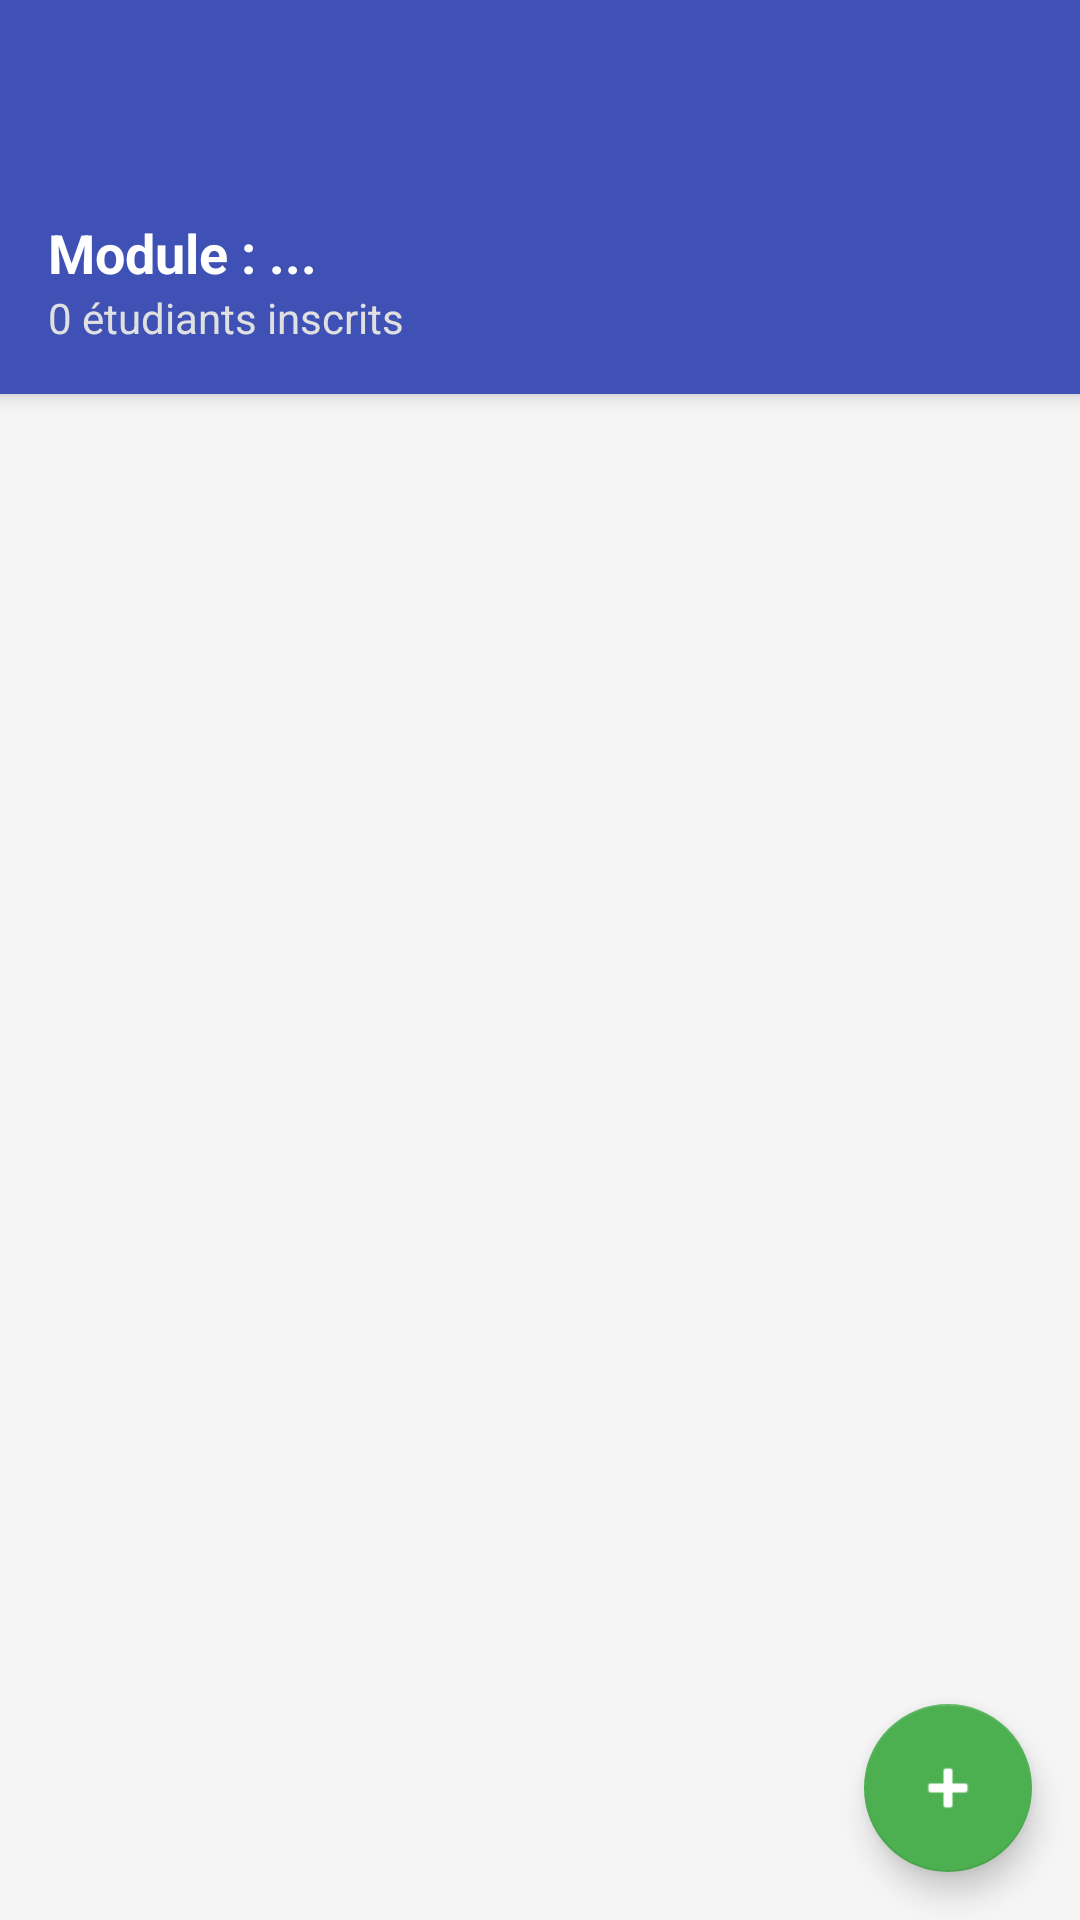

Screen size 1080px x 1920px. Icon name, then its box in pixels as [x1,y1,x2,y2]:
Enrôler un étudiant: [864,1704,1032,1872]
